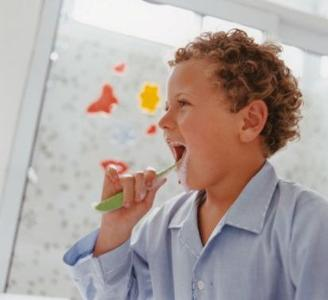person: (63, 28, 328, 299)
